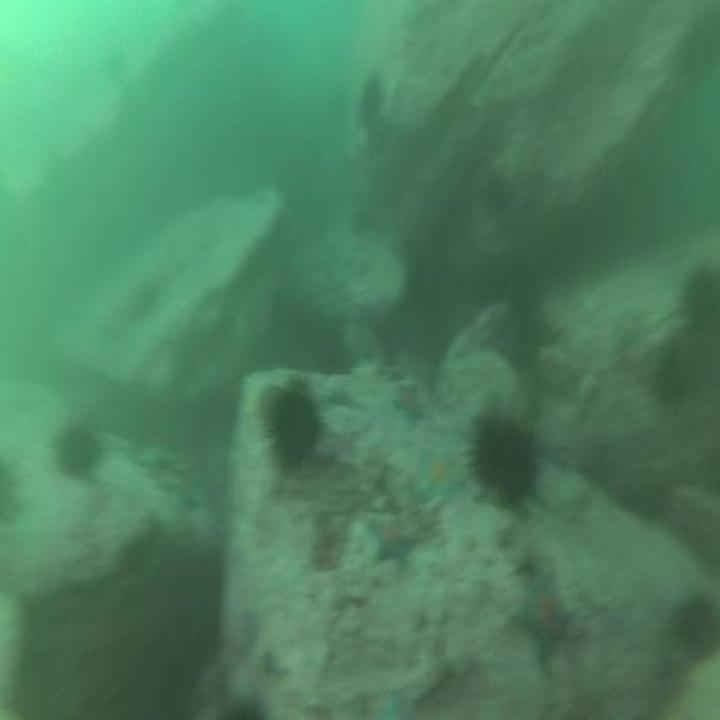echinus: (465, 398, 542, 521), (262, 374, 324, 483), (670, 585, 720, 670), (50, 416, 109, 482), (679, 254, 720, 338), (356, 68, 390, 130), (0, 450, 25, 528), (480, 164, 514, 221)
starfish: (510, 566, 589, 670), (363, 512, 426, 574), (417, 439, 468, 507), (387, 373, 429, 427)
